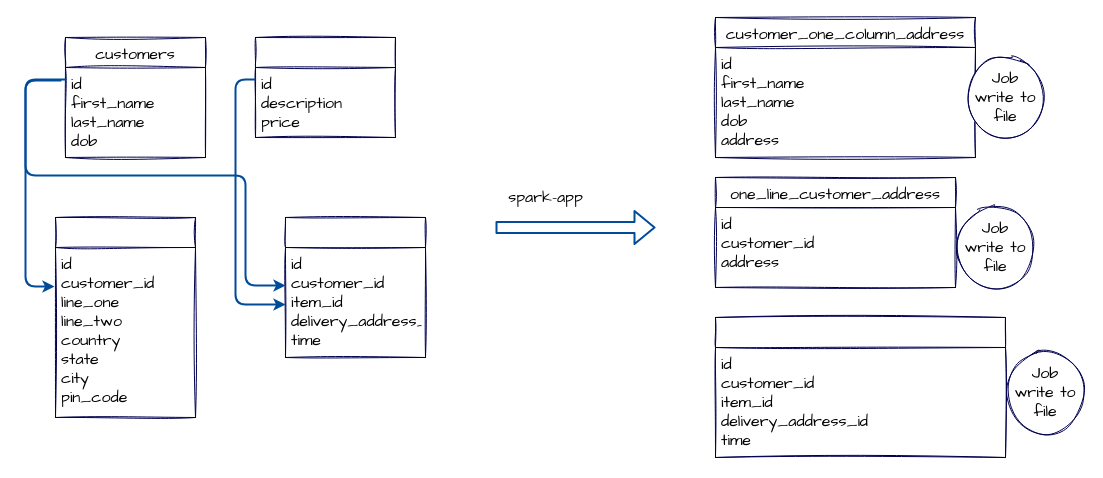
The diagram is 1103 pixels wide and 478 high, and some of its shapes have lost their labels. The box of each missing label's shape, as (x1, y1, x2, y2) in pixels:
customer_address: (54, 216, 196, 418)
customer_orders: (284, 216, 426, 358)
customer_orders_with_address_item: (714, 316, 1006, 458)
items: (254, 36, 396, 138)
